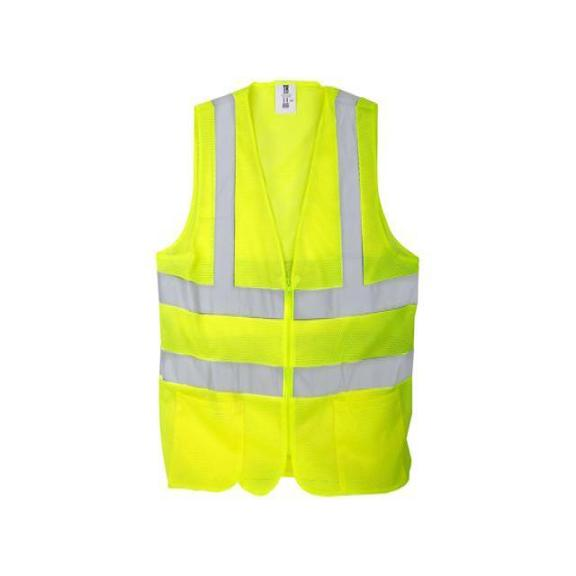safety_vest: (153, 74, 419, 497)
